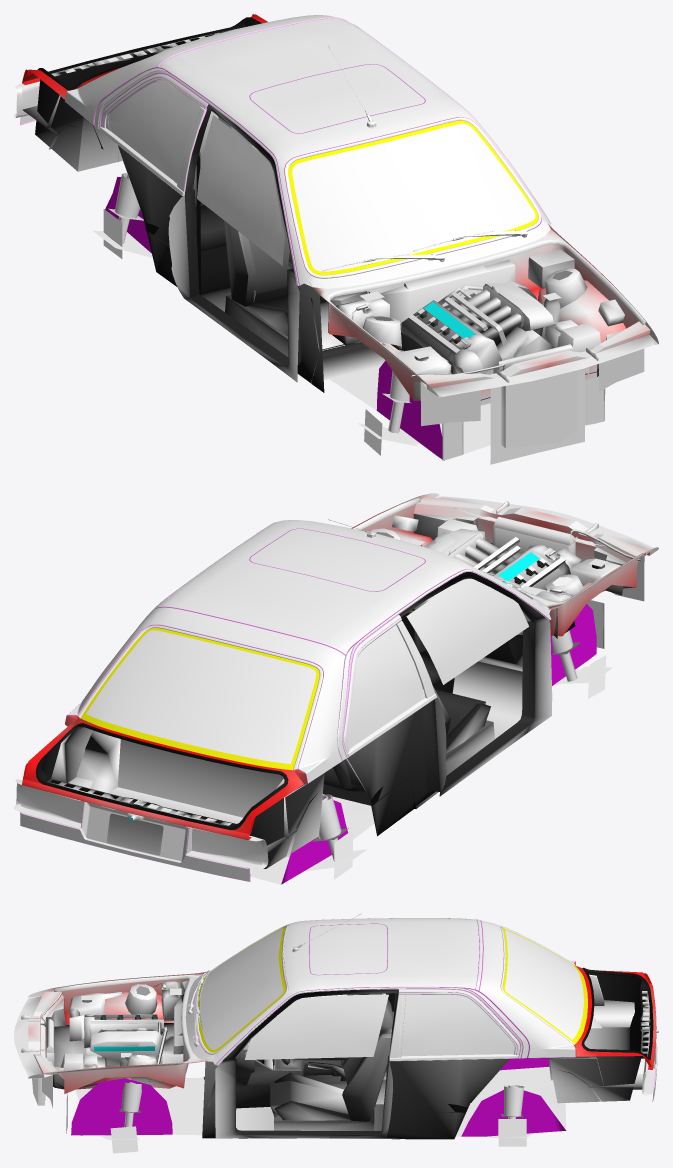
Rendered from Car_BMW_M3E30Evo2_1988.fbx.
3 views of the same model, one above another, from view 1: azimuth 30°, elevation 25°; view 2: azimuth 150°, elevation 25°; view 3: azimuth 270°, elevation 25° (orthographic). The views are drawn at different scales.
Parts seen in each view (by area): view 1: Chassis 1, Glass 1, Interior 1, DoorR_Glass; view 2: Chassis 1, Glass 1, Interior 1, DoorR_Glass; view 3: Chassis 1, Interior 1, Glass 1, DoorL_Glass.
Boxes of the visible parts, x1,y1,x2,y2 form: Chassis 1: [14, 14, 658, 464]; Glass 1: [108, 56, 538, 275]; Interior 1: [116, 104, 406, 392]; DoorR_Glass: [197, 115, 284, 265]; Chassis 1: [14, 493, 658, 884]; Glass 1: [80, 625, 422, 770]; Interior 1: [79, 572, 552, 836]; DoorR_Glass: [406, 578, 528, 684]; Chassis 1: [14, 913, 658, 1153]; Interior 1: [197, 989, 509, 1139]; Glass 1: [198, 927, 587, 1056]; DoorL_Glass: [245, 994, 388, 1059].
Bounding box in the file's own units: 1.6 × 1.45 × 4.26.
